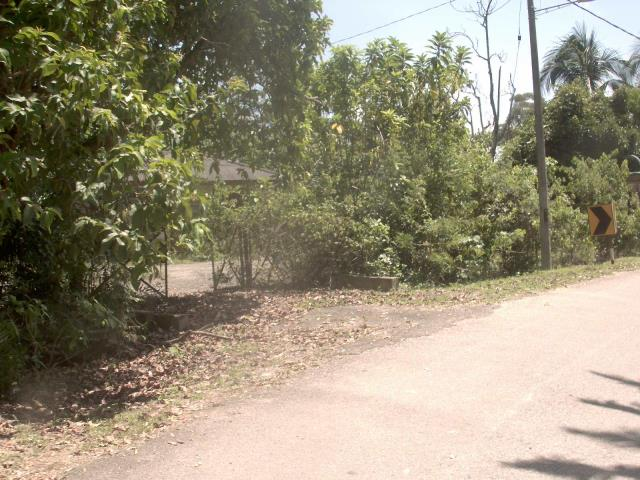traffic_sign: (582, 197, 620, 244)
